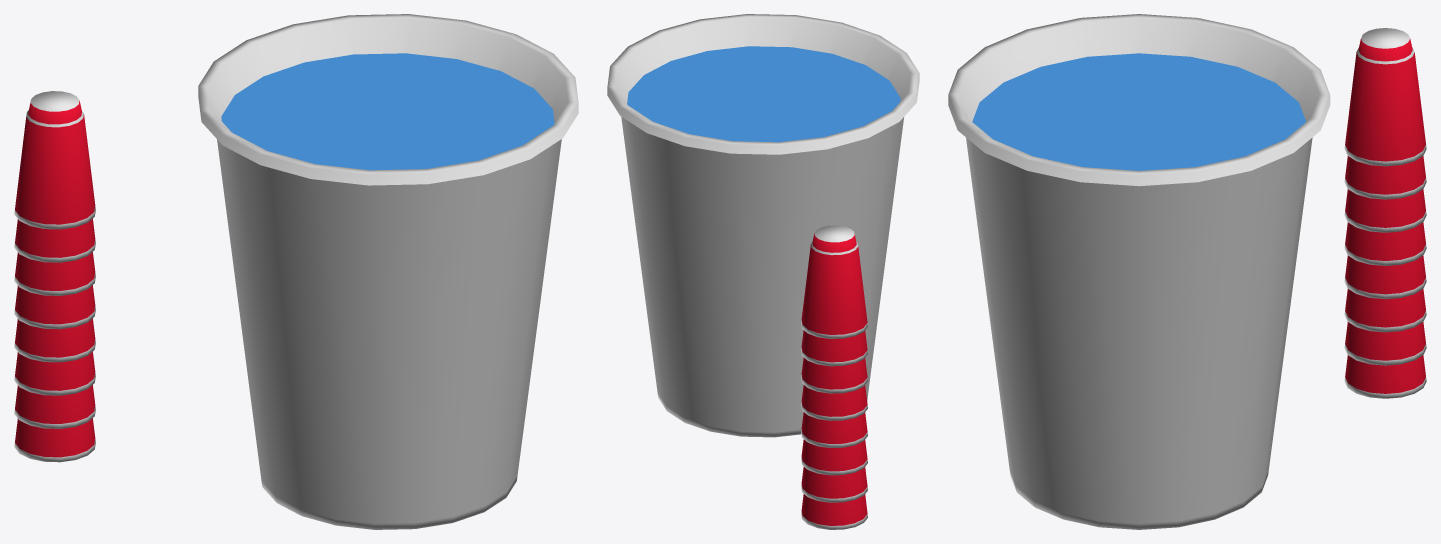
The model's file is WaterBucket.fbx.
3 renders of one model, left to right at view 1: azimuth 30°, elevation 25°; view 2: azimuth 150°, elevation 25°; view 3: azimuth 270°, elevation 25°, orthographic. The views are drawn at different scales.
Visible parts, largest first — view 1: Cylinder.003, Cups.020; view 2: Cylinder.003, Cups.020; view 3: Cylinder.003, Cups.020.
Boxes of the visible parts, x1,y1,x2,y2 form: Cylinder.003: [198, 14, 578, 529]; Cups.020: [14, 91, 95, 462]; Cylinder.003: [607, 14, 919, 437]; Cups.020: [801, 225, 867, 529]; Cylinder.003: [948, 14, 1330, 529]; Cups.020: [1344, 28, 1426, 398].
Bounding box in the file's own units: 107 × 96.74 × 108.
